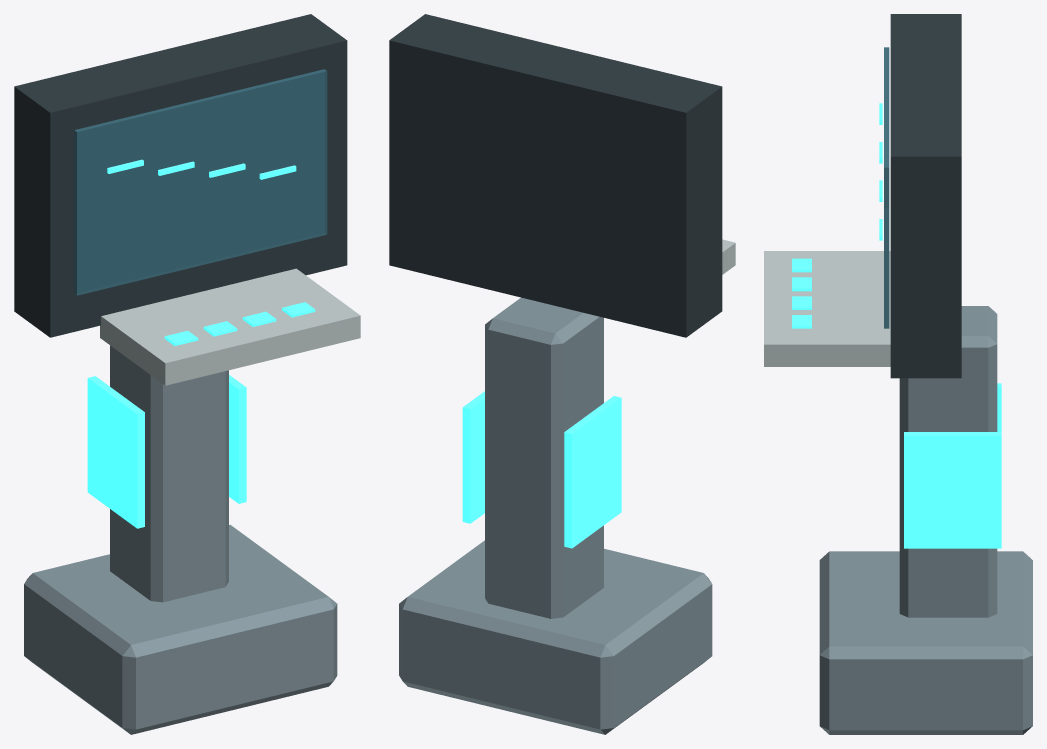
File: Interior_Terminal.glb
3 renders of one model, left to right at view 1: azimuth 30°, elevation 25°; view 2: azimuth 150°, elevation 25°; view 3: azimuth 270°, elevation 25°, orthographic.
Parts seen in each view (by area): view 1: Interior_Terminal; view 2: Interior_Terminal; view 3: Interior_Terminal.
Boxes of the visible parts, box(x1,y1,x2,y2) form: Interior_Terminal: box(14, 14, 360, 734); Interior_Terminal: box(389, 14, 735, 734); Interior_Terminal: box(764, 14, 1032, 734).
Size of the model in its own units: 0.76 by 1.5 by 0.605.
